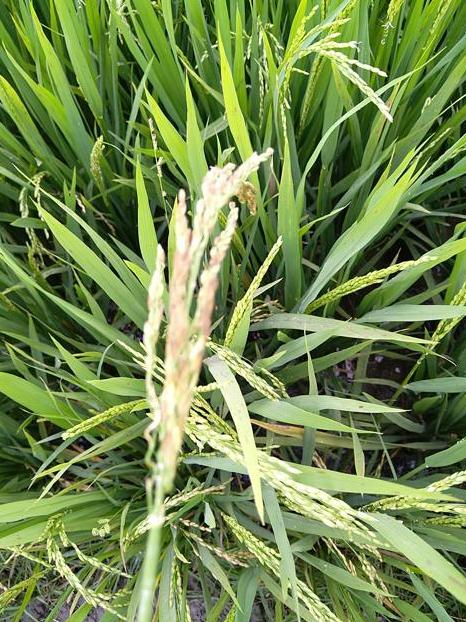Panicle Blight: (143, 150, 272, 494)
